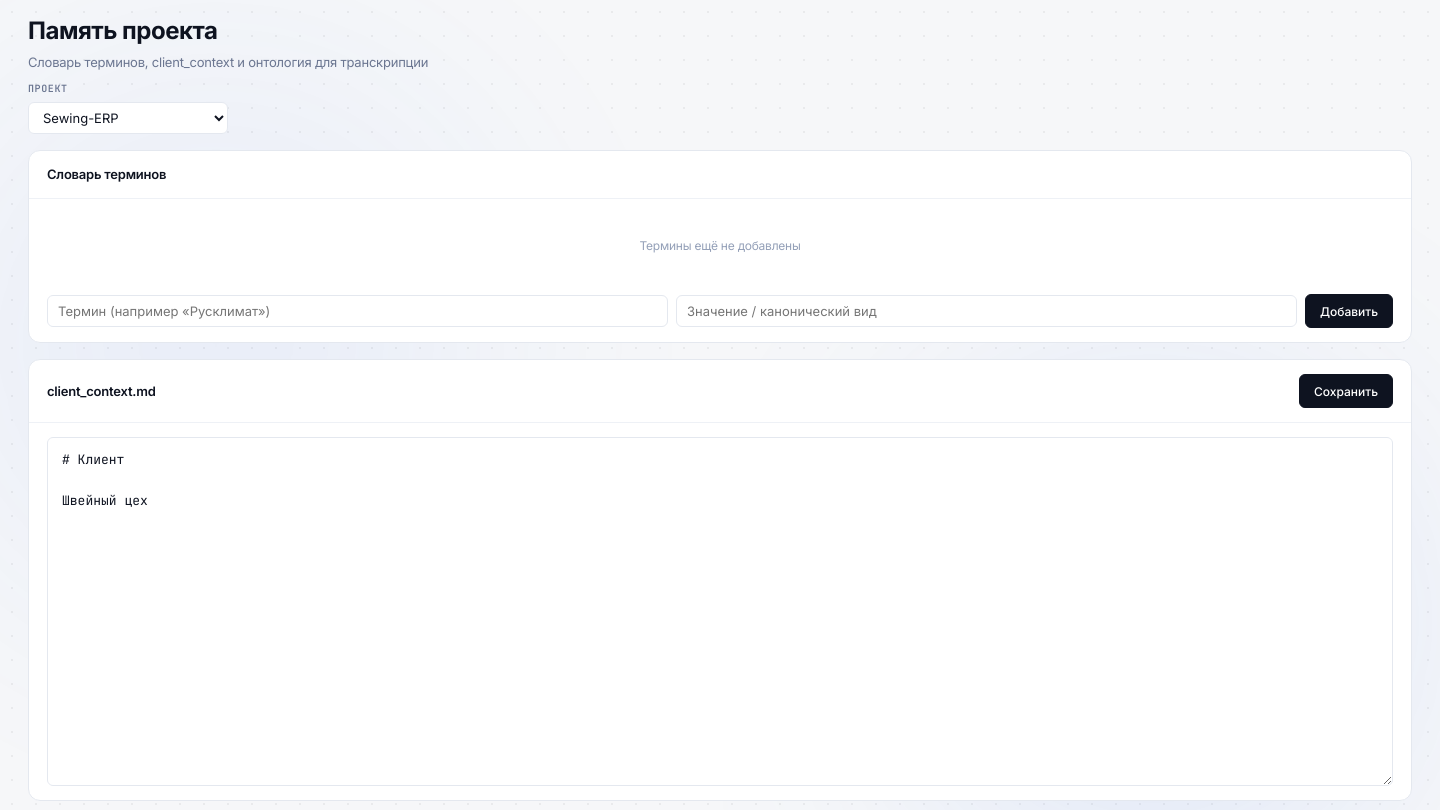
Test: ProjectMemoryView — dictionary › adds a new term via the add-term form
Expected: the text "Термины ещё не добавлены" is shown, 639,238 -> 801,253
In the field named "Новый термин": (358, 311) 47,295 -> 668,327, type "Русклимат"
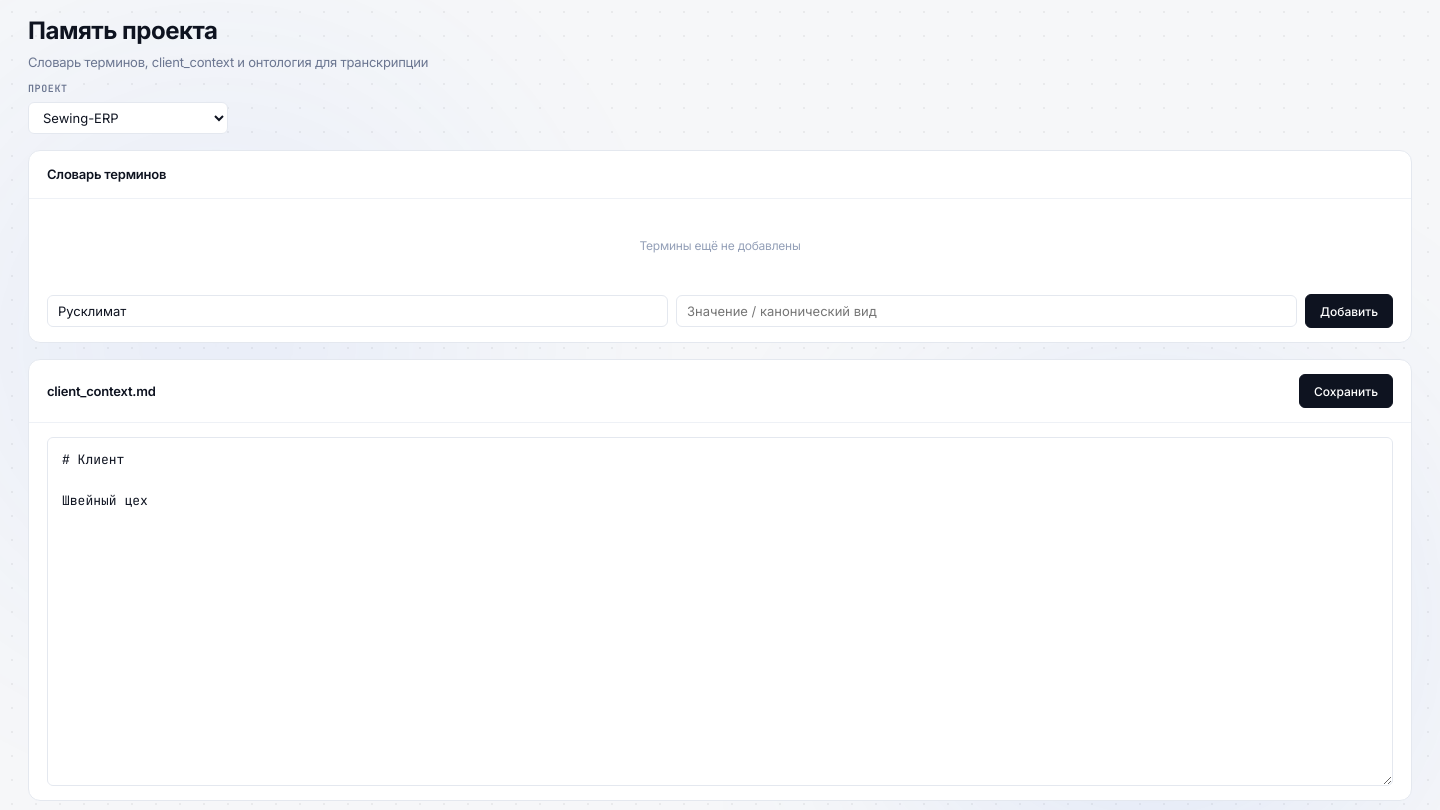
In the field named "Значение нового термина": (986, 311) 676,295 -> 1297,327, type "поставщик Русклимат"
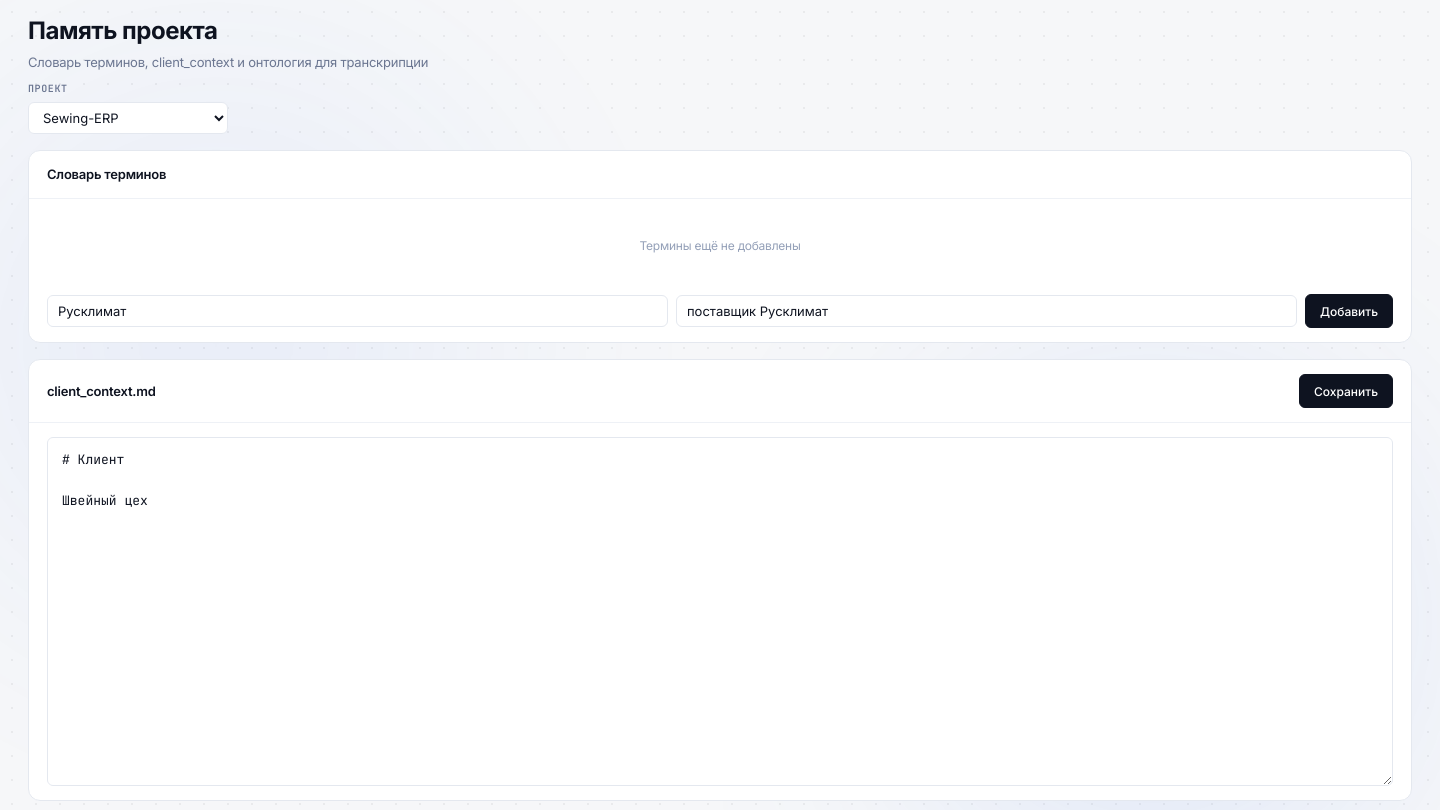
Click the button "Добавить": (1349, 311) 1305,294 -> 1393,328
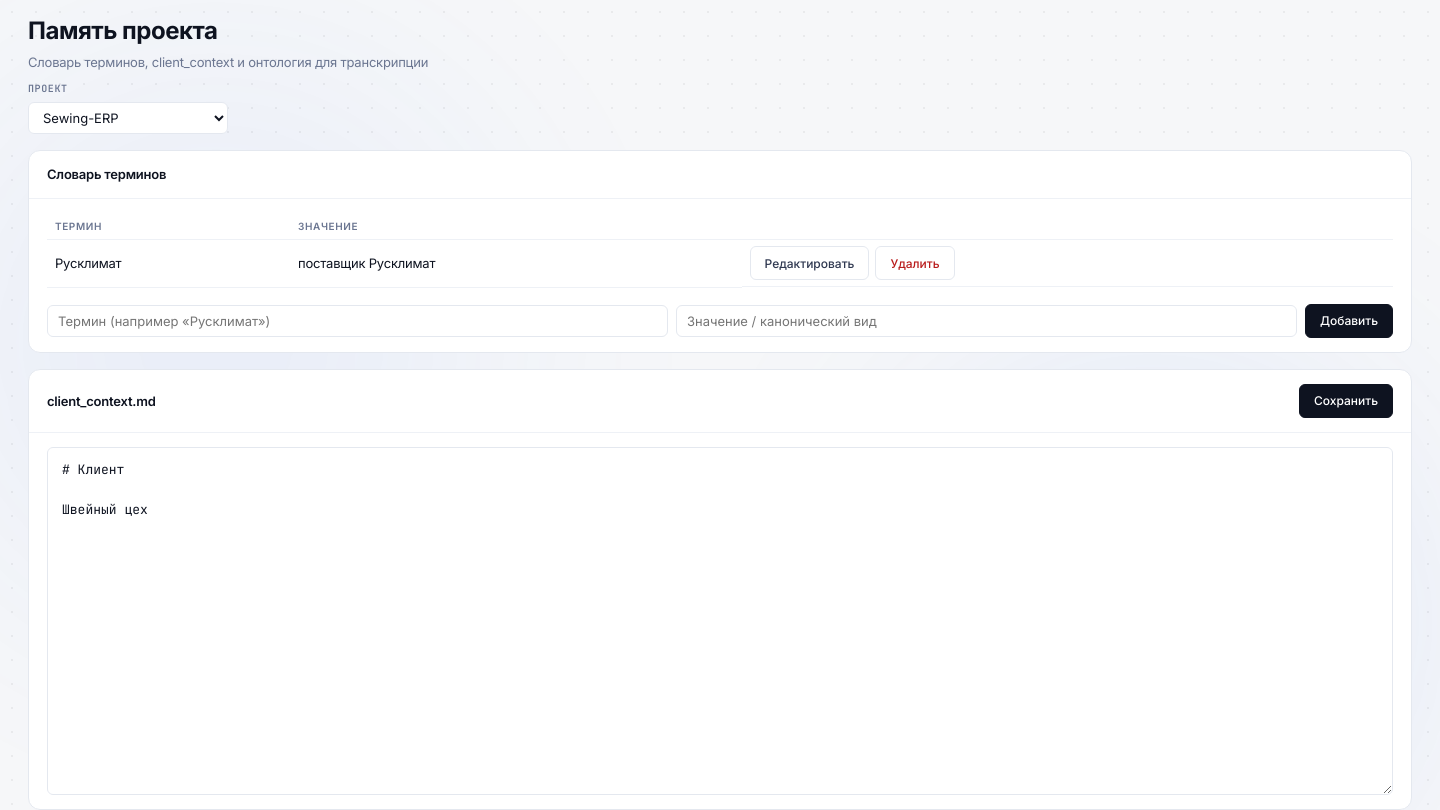
Now the text "Русклимат" is shown, box 47,240 -> 290,288
